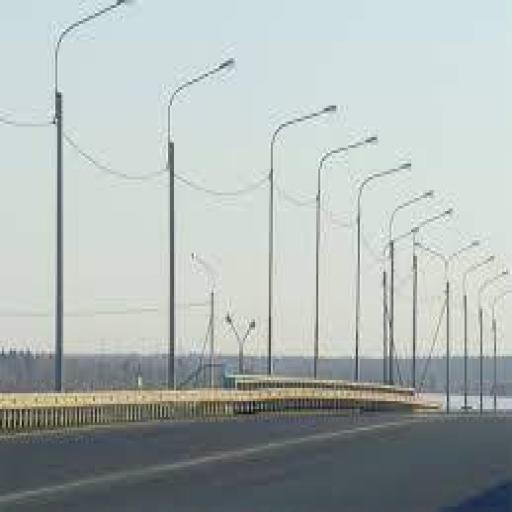Light-pole: (150, 15, 234, 410), (44, 0, 120, 411), (310, 104, 379, 399), (262, 72, 324, 394), (353, 146, 409, 379)
